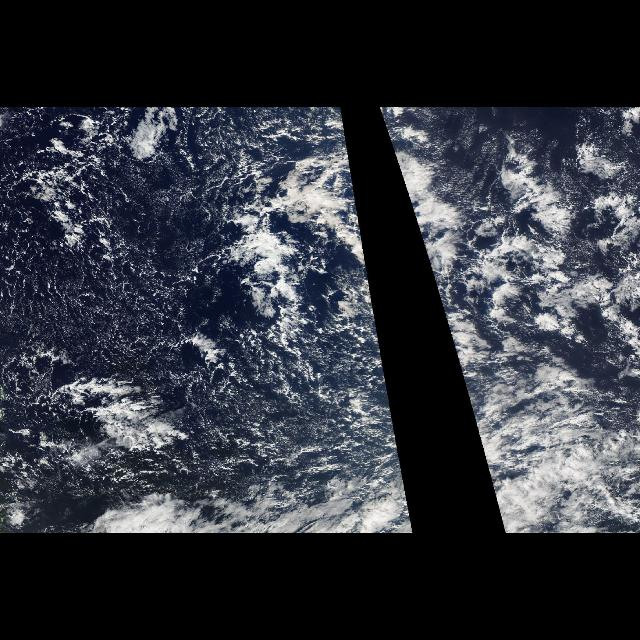Gravel: (0, 108, 406, 490), (425, 252, 513, 488)
